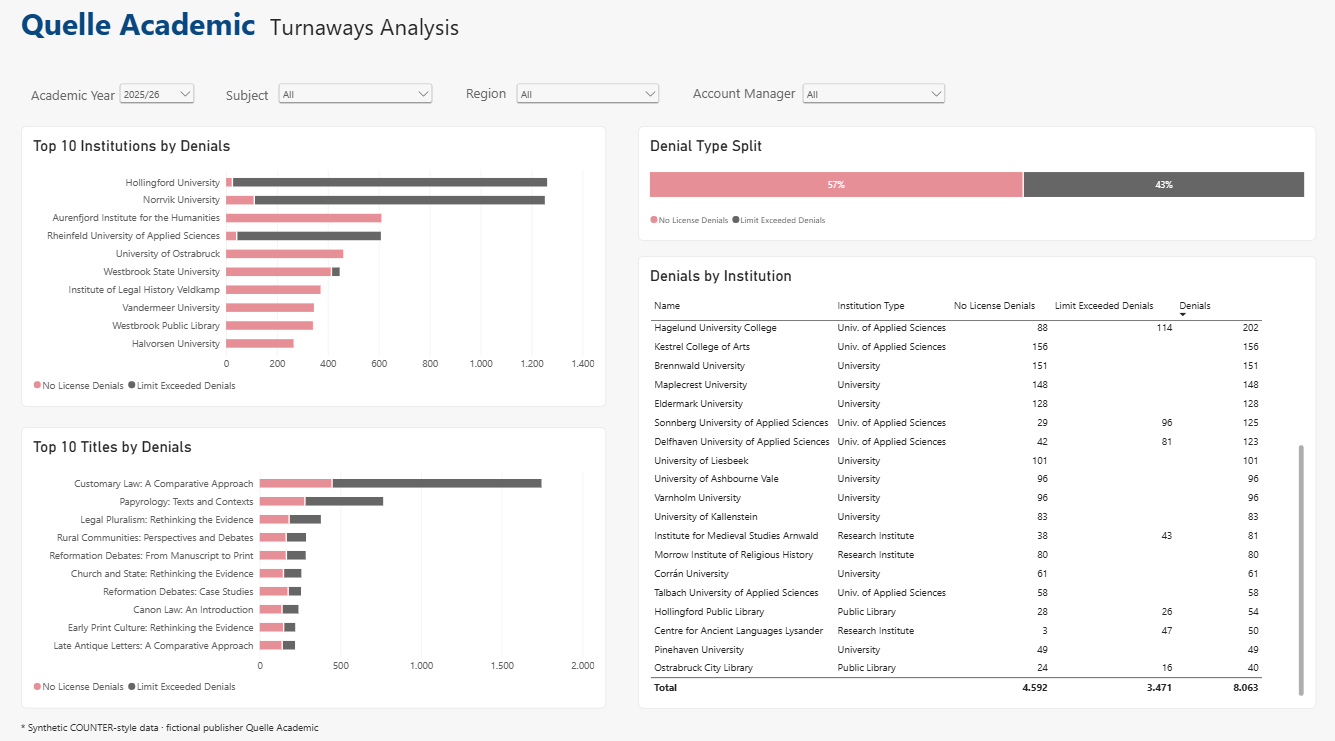

Layout of this report page (visuals, bound fields, positions):
{"tool":"powerbi","page":{"name":"Where are we turning customers away?","canvas":[1920,1080],"ordinal":1},"visuals":[{"type":"textbox","box":[34.8,16.7,763,67.8],"z":0},{"type":"slicer","fields":{"Values":["dim_date.academic_year"]},"box":[170,127.8,116.7,40],"z":1000},{"type":"textbox","box":[48.9,135.6,139,27.8],"z":2000},{"type":"slicer","fields":{"Values":["dim_title.subject"]},"box":[396.7,127.8,230,45.6],"z":3000},{"type":"textbox","box":[288.4,112.5,144.6,45.5],"z":4000},{"type":"slicer","fields":{"Values":["dim_institution.region"]},"box":[736.7,127.8,214.4,45.6],"z":5000},{"type":"textbox","box":[670,133.3,67,34.8],"z":6000},{"type":"barChart","title":"Top 10 Institutions by Denials","fields":{"Category":["dim_institution.institution_name"],"Y":["_Measures.No License Denials","_Measures.Limit Exceeded Denials"]},"box":[34.9,192.8,836.1,401.2],"z":7000},{"type":"tableEx","title":"Denials by Institution","fields":{"Values":["dim_institution.institution_name","dim_institution.institution_type","_Measures.No License Denials","_Measures.Limit Exceeded Denials","_Measures.Denials"]},"box":[915.7,378.3,968.7,647],"z":8000},{"type":"textbox","box":[327.8,135.6,137.8,37.8],"z":9000},{"type":"textbox","box":[34.5,1042,536.5,30.2],"z":10000},{"type":"slicer","fields":{"Values":["dim_institution.account_manager"]},"box":[1145.6,127.8,214.4,45.6],"z":11000},{"type":"textbox","box":[994.4,133.3,160,37.8],"z":12000},{"type":"barChart","title":"Top 10 Titles by Denials","fields":{"Category":["dim_title.title_name"],"Y":["_Measures.No License Denials","_Measures.Limit Exceeded Denials"]},"box":[34.9,622.9,836.1,402.4],"z":13000},{"type":"hundredPercentStackedBarChart","title":"Denial Type Split","fields":{"Y":["_Measures.No License Denials","_Measures.Limit Exceeded Denials"]},"box":[915.7,192.8,968.7,163.9],"z":15000}]}

Visuals, with their boxes in screenshot pixels (x1, y1, x2, y2), scaled from the page's 1920x1080 canvas onto the 1335x741 screenshot:
textbox: select_region(24, 11, 555, 58)
slicer - dim_date.academic_year: select_region(118, 88, 199, 115)
textbox: select_region(34, 93, 131, 112)
slicer - dim_title.subject: select_region(276, 88, 436, 119)
textbox: select_region(201, 77, 301, 108)
slicer - dim_institution.region: select_region(512, 88, 661, 119)
textbox: select_region(466, 91, 512, 115)
"Top 10 Institutions by Denials" barChart: select_region(24, 132, 606, 408)
"Denials by Institution" tableEx: select_region(637, 260, 1310, 703)
textbox: select_region(228, 93, 324, 119)
textbox: select_region(24, 715, 397, 736)
slicer - dim_institution.account_manager: select_region(797, 88, 946, 119)
textbox: select_region(691, 91, 803, 117)
"Top 10 Titles by Denials" barChart: select_region(24, 427, 606, 703)
"Denial Type Split" hundredPercentStackedBarChart: select_region(637, 132, 1310, 245)
